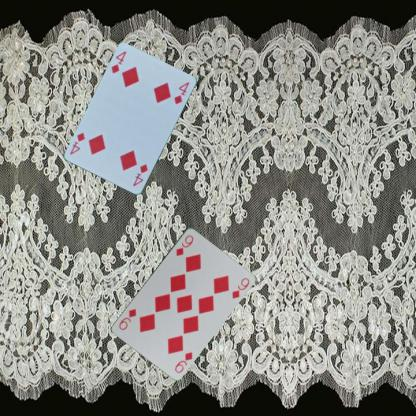4d: (130, 162, 149, 188), (108, 49, 127, 75)
9d: (173, 232, 195, 257), (172, 349, 194, 374)
